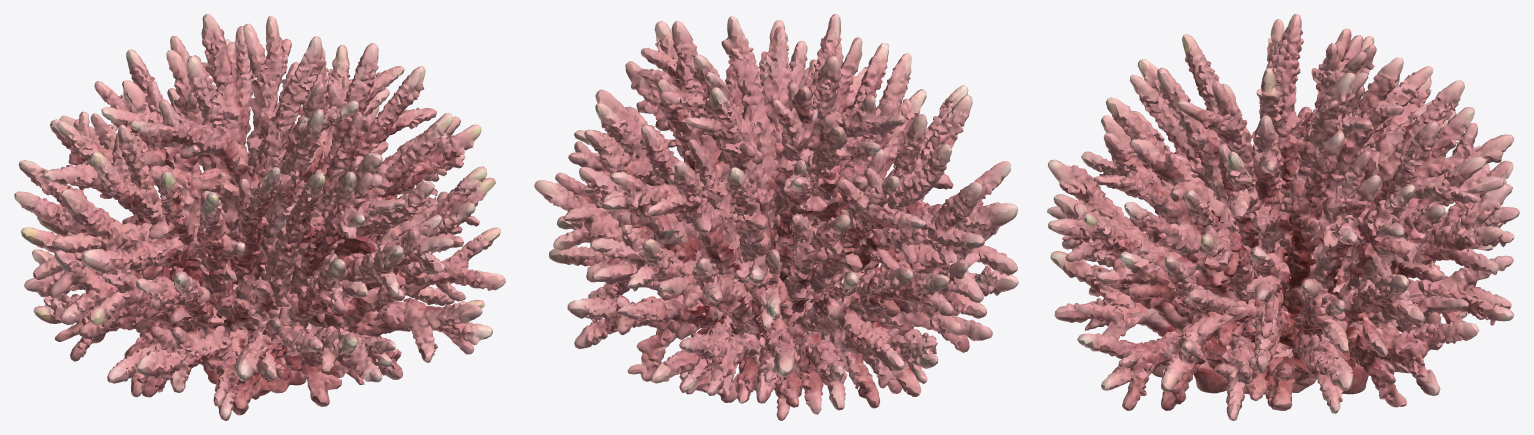
The model's file is coral_branch.glb.
3 renders of one model, left to right at view 1: azimuth 30°, elevation 25°; view 2: azimuth 150°, elevation 25°; view 3: azimuth 270°, elevation 25°, orthographic. The views are drawn at different scales.
Parts seen in each view (by area): view 1: geometry_0; view 2: geometry_0; view 3: geometry_0.
Part boxes in pixels (bbox=[...]): geometry_0: bbox=[14, 14, 505, 420]; geometry_0: bbox=[534, 14, 1018, 420]; geometry_0: bbox=[1047, 14, 1519, 420].
Bounding box in the file's own units: 0.25 × 0.1957 × 0.2468.
1 material, 1 textured.
